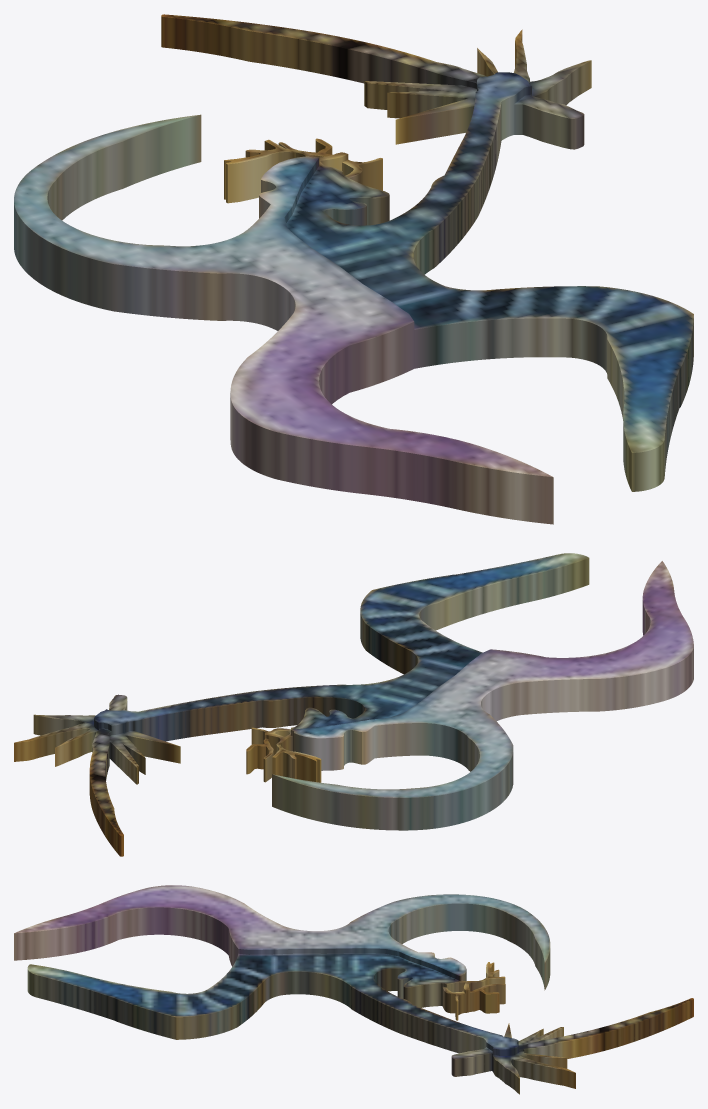
File: El origen de nuestra 9.dae
The picture shows the model from 3 angles, top to bottom: view 1: azimuth 30°, elevation 25°; view 2: azimuth 150°, elevation 25°; view 3: azimuth 270°, elevation 25°; orthographic projection. The views are drawn at different scales.
Visible parts, largest first — view 1: SketchUp; view 2: SketchUp; view 3: SketchUp.
Part boxes in pixels (left/top/right/bottom): SketchUp: left=14, top=14, right=693, bottom=524; SketchUp: left=14, top=553, right=693, bottom=856; SketchUp: left=14, top=885, right=693, bottom=1094.
Size of the model in its own units: 15.19 by 23.96 by 1.06.
1 material, 1 textured.
